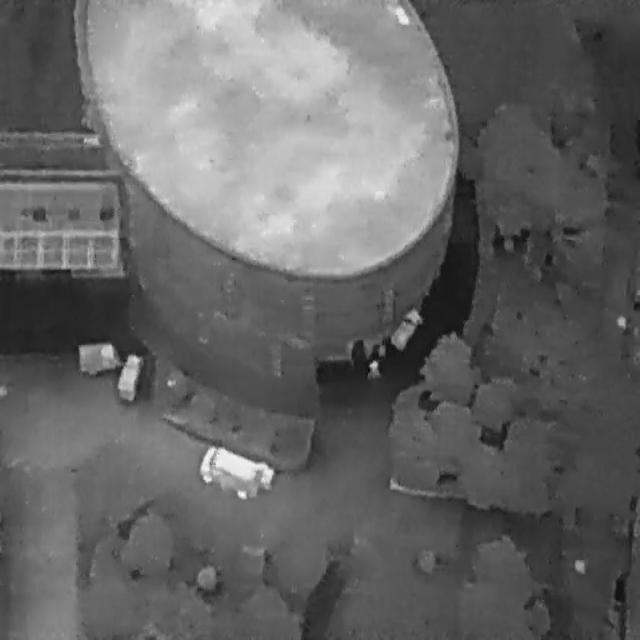Car: (194, 438, 262, 507), (113, 348, 147, 407), (77, 340, 120, 372)
